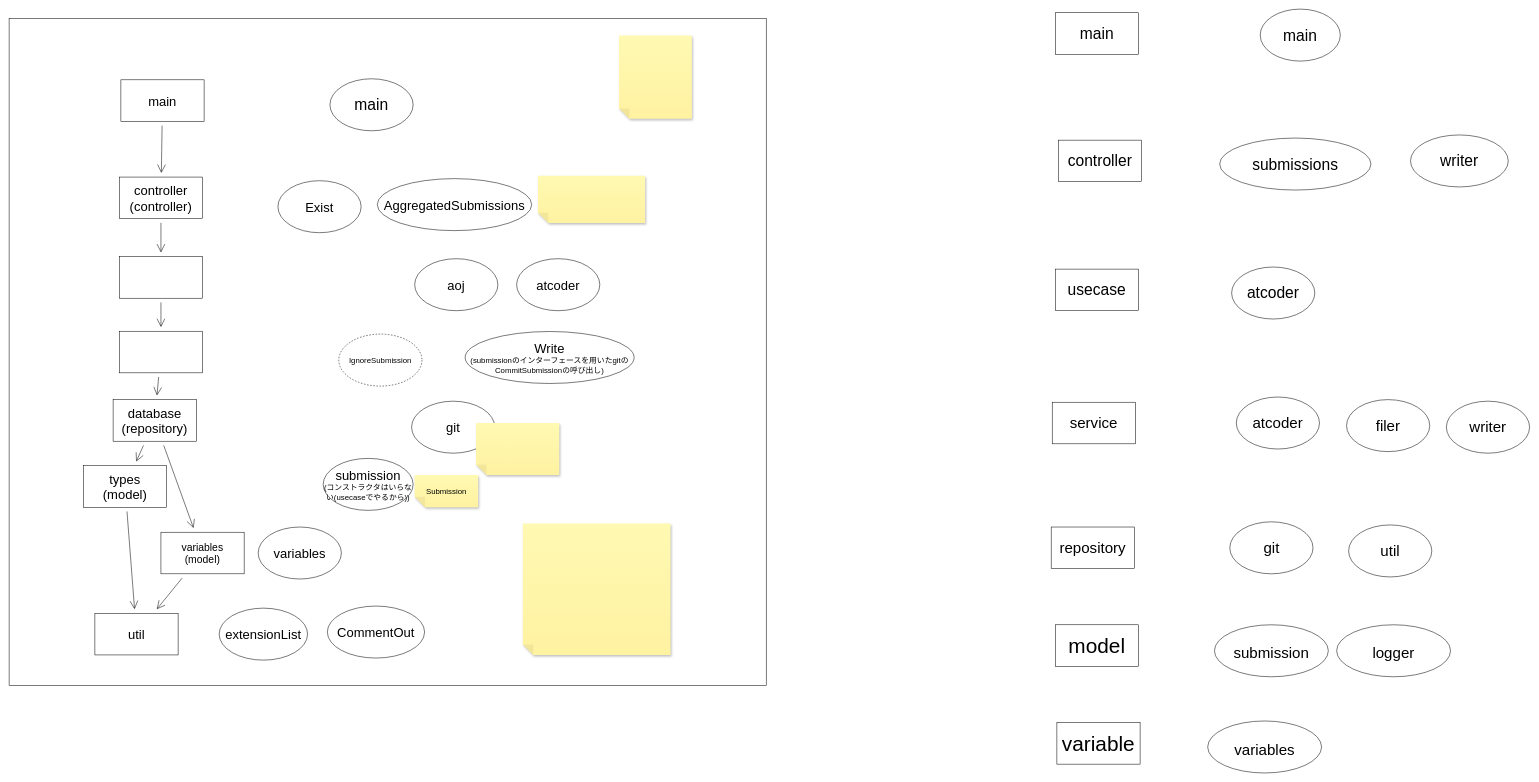
This 1539x782 diagram has some shape labels left out. The centre of each missing label's shape, as x and y in pixels:
"---env--- GIT_EMAIL GITHUB_TOKEN" belongs at point (597, 589).
"CommitSubmission SetupGit PushChange git" belongs at point (518, 449).
"service (service)" belongs at point (161, 352).
"sites (usecase)" belongs at point (161, 277).
"ver1" belongs at point (656, 77).
"各usecaseのsubmission をsubmissionsとしてまとめる" belongs at point (592, 199).
